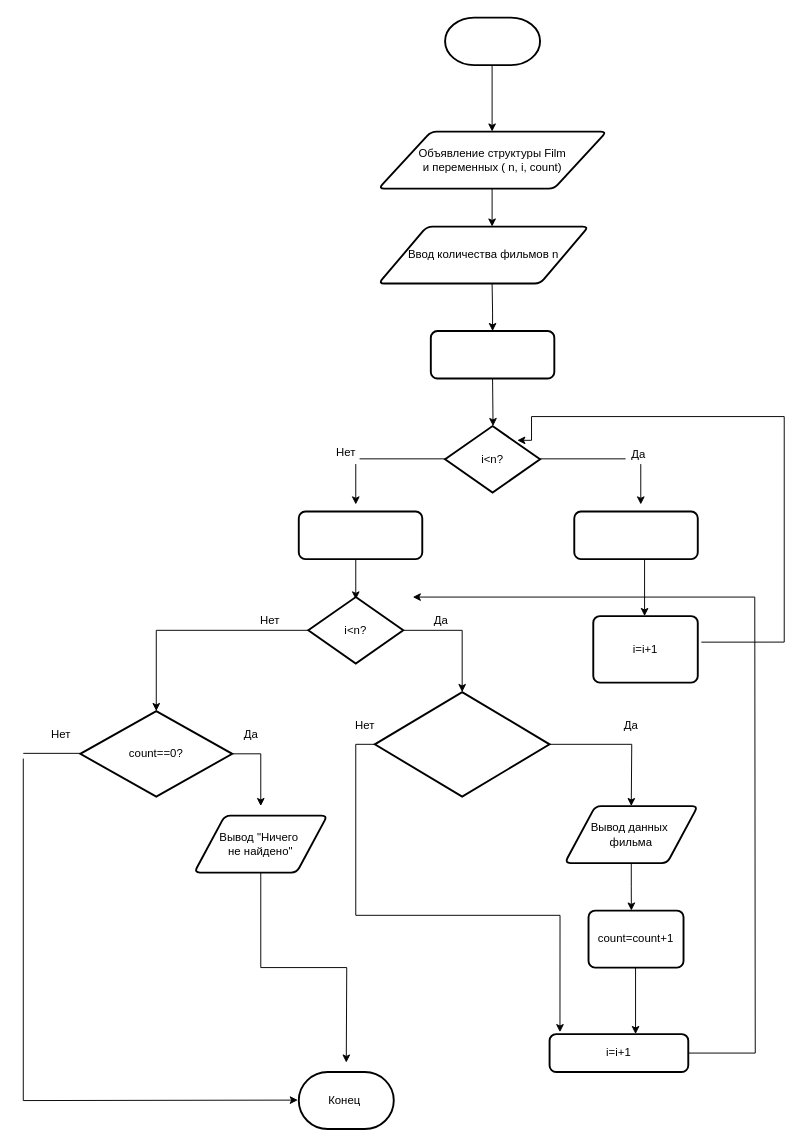
Image size: 808x1146. Some labels were removed from this diagram. The centre of each missing label's shape, as x and y in pixels:
"i=0" belongs at pixel 492 354.
"i=0, count=0" belongs at pixel 360 535.
"Ввод данных" belongs at pixel 635 535.
"Время >18.00 и длительность >100?" belongs at pixel 461 744.
"Начало" belongs at pixel 492 41.
